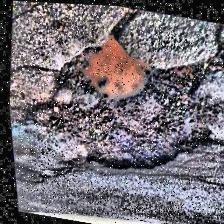pothole: (42, 24, 214, 180)
